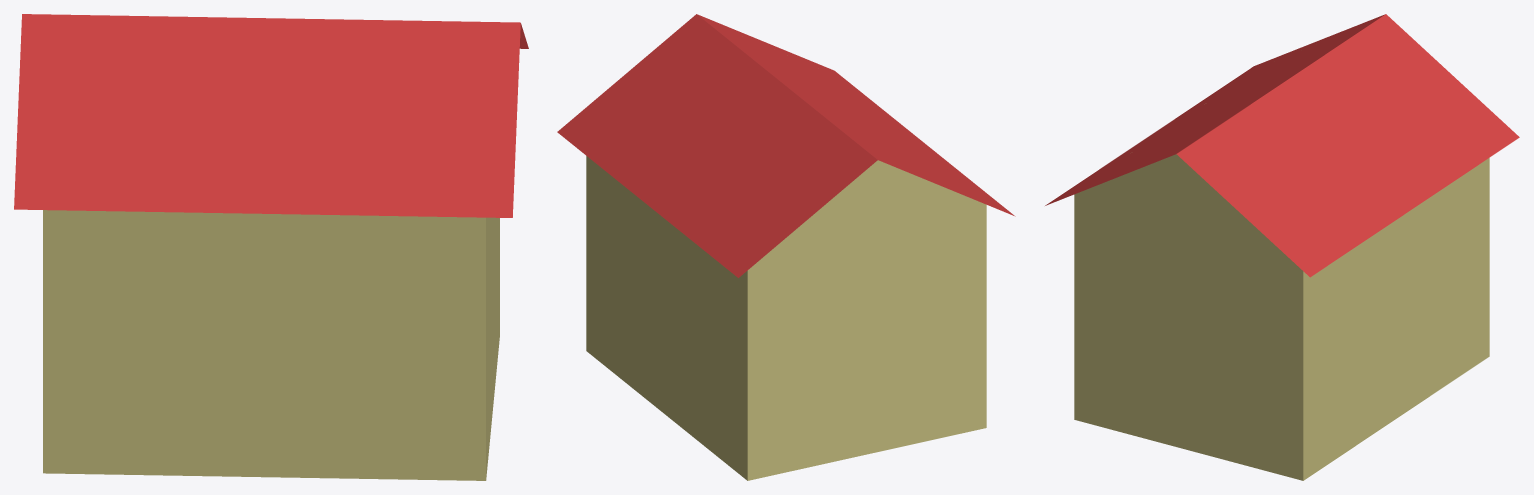
3 views of the same model, side by side, from view 1: azimuth 30°, elevation 25°; view 2: azimuth 150°, elevation 25°; view 3: azimuth 270°, elevation 25° (orthographic). The views are drawn at different scales.
Visible parts, largest first — view 1: group_5, group_3, group_4; view 2: group_5, group_3, group_4; view 3: group_5, group_3, group_4.
Part boxes in pixels (<box>): group_5: <box>43,210,499,480</box>; group_3: <box>14,14,519,217</box>; group_4: <box>14,14,528,217</box>; group_5: <box>586,156,986,480</box>; group_3: <box>557,14,985,277</box>; group_4: <box>697,14,1015,216</box>; group_5: <box>1074,154,1489,480</box>; group_3: <box>1075,14,1519,277</box>; group_4: <box>1045,14,1385,205</box>.
Bounding box in the file's own units: 17.13 × 16.31 × 11.49.
